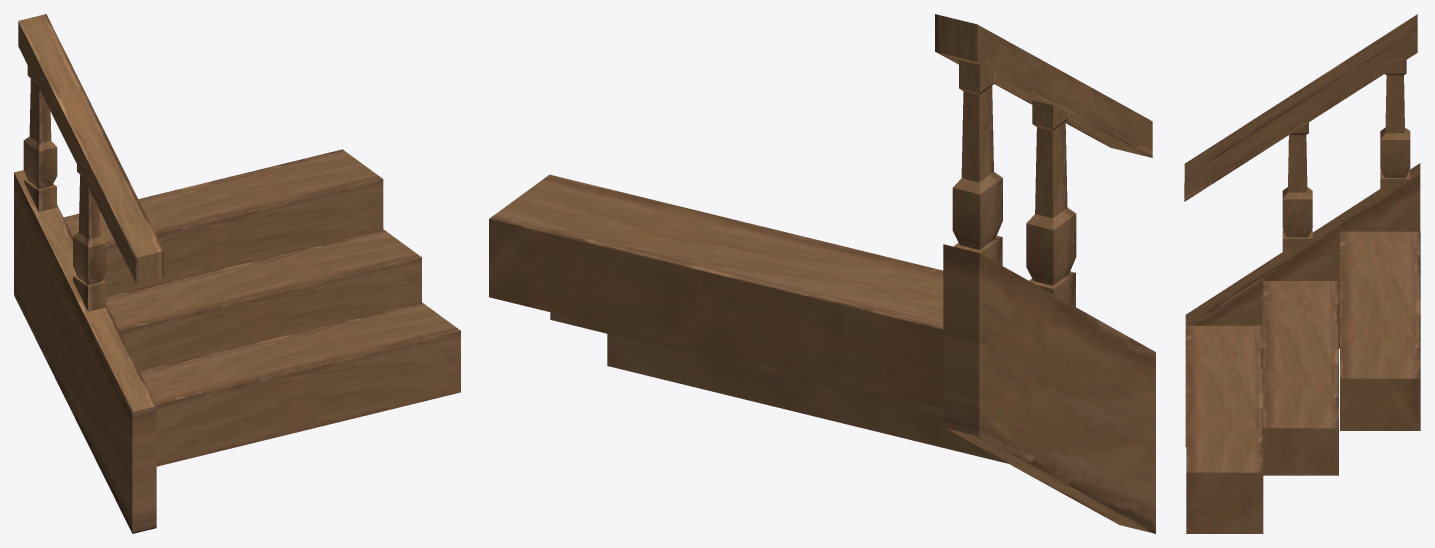
The model's file is short stair.fbx.
The picture shows the model from 3 angles, left to right: view 1: azimuth 30°, elevation 25°; view 2: azimuth 150°, elevation 25°; view 3: azimuth 270°, elevation 25°; orthographic projection. The views are drawn at different scales.
Parts seen in each view (by area): view 1: polySurface556; view 2: polySurface556; view 3: polySurface556.
Boxes of the visible parts, bbox=[...] form: polySurface556: bbox=[14, 14, 460, 533]; polySurface556: bbox=[489, 14, 1155, 533]; polySurface556: bbox=[1184, 14, 1420, 533].
Bounding box in the file's own units: 163 × 202 × 102.
Materials: 1 (1 with a texture image).
